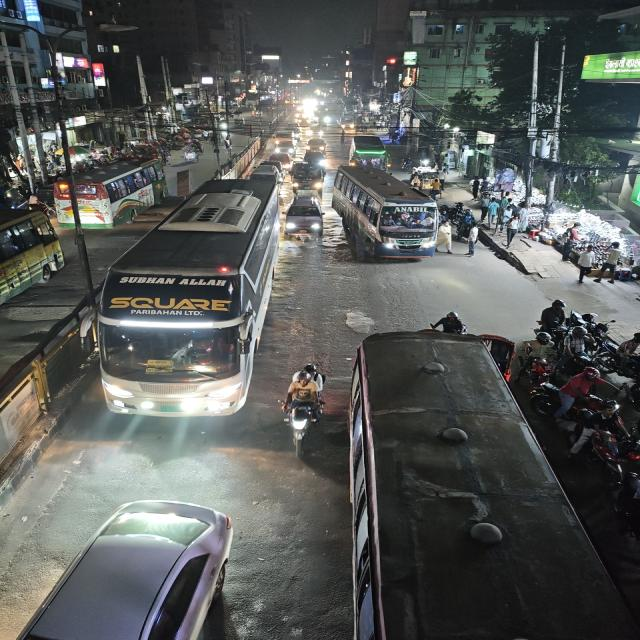bus: (347, 331, 619, 640), (95, 178, 277, 418), (334, 162, 442, 266), (51, 154, 161, 226), (0, 200, 69, 311), (345, 136, 391, 169)
car: (15, 493, 251, 640), (286, 196, 322, 244), (240, 163, 289, 180), (266, 138, 298, 157), (301, 135, 330, 154)
motorcycle: (536, 361, 616, 437), (276, 358, 332, 458)
pickup_van: (285, 162, 328, 196)
